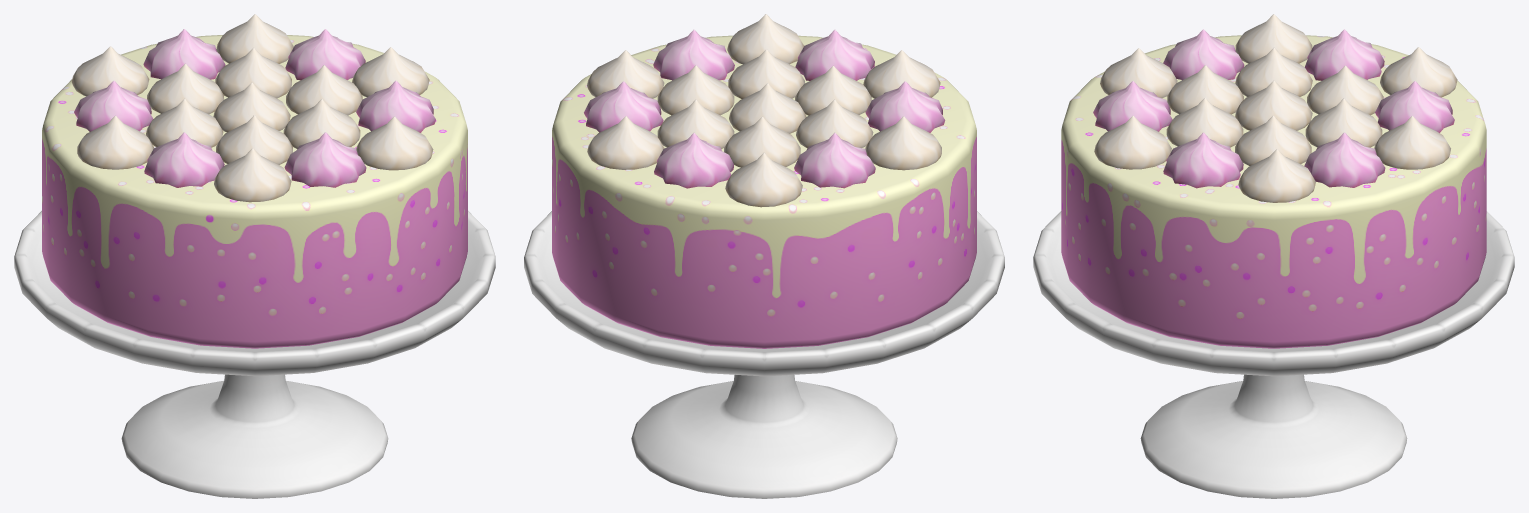
The model's file is BuffetCakes02_1.FBX.
3 renders of one model, left to right at view 1: azimuth 30°, elevation 25°; view 2: azimuth 150°, elevation 25°; view 3: azimuth 270°, elevation 25°, orthographic.
Parts seen in each view (by area): view 1: BuffetCakes02_1; view 2: BuffetCakes02_1; view 3: BuffetCakes02_1.
Boxes of the visible parts, x1,y1,x2,y2 form: BuffetCakes02_1: (14, 14, 495, 498); BuffetCakes02_1: (524, 14, 1004, 498); BuffetCakes02_1: (1033, 14, 1514, 498).
Size of what is drawn, in the model's own units: 0.4878 by 0.4047 by 0.4878.
